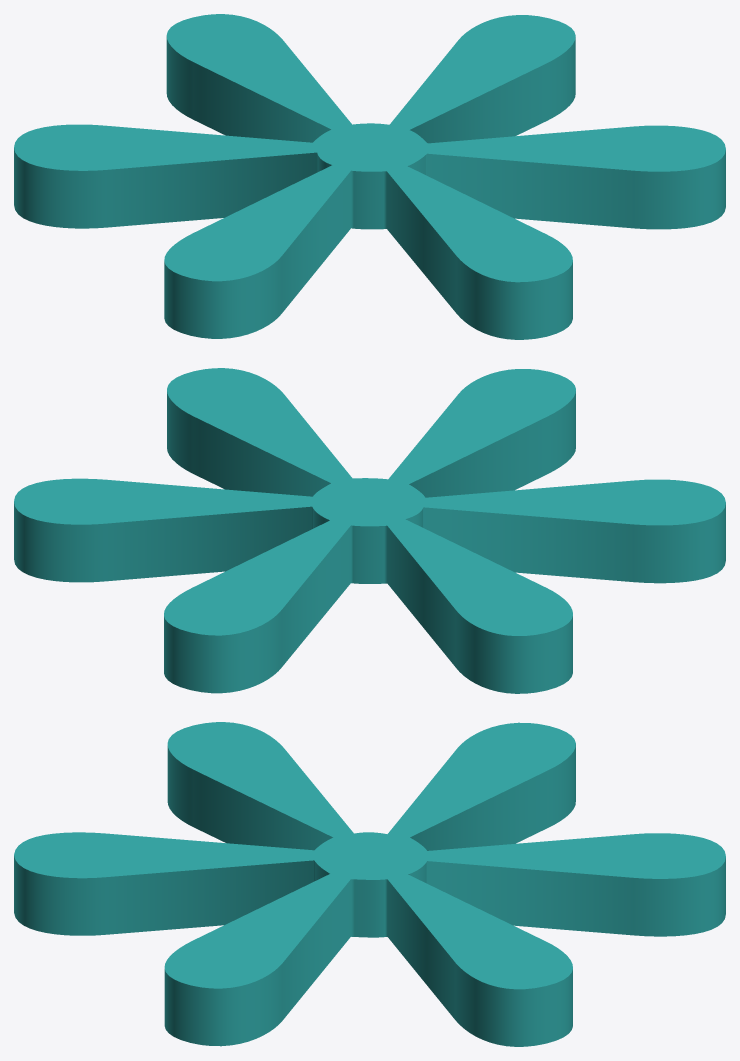
Rendered from homeo.glb.
3 views of the same model, one above another, from view 1: azimuth 30°, elevation 25°; view 2: azimuth 150°, elevation 25°; view 3: azimuth 270°, elevation 25° (orthographic).
Visible parts, largest first — view 1: Text; view 2: Text; view 3: Text.
Boxes of the visible parts, box(x1,y1,x2,y2) form: Text: box(14, 14, 725, 339); Text: box(14, 368, 725, 693); Text: box(14, 722, 725, 1046).
Bounding box in the file's own units: 0.3979 × 0.04 × 0.448.
